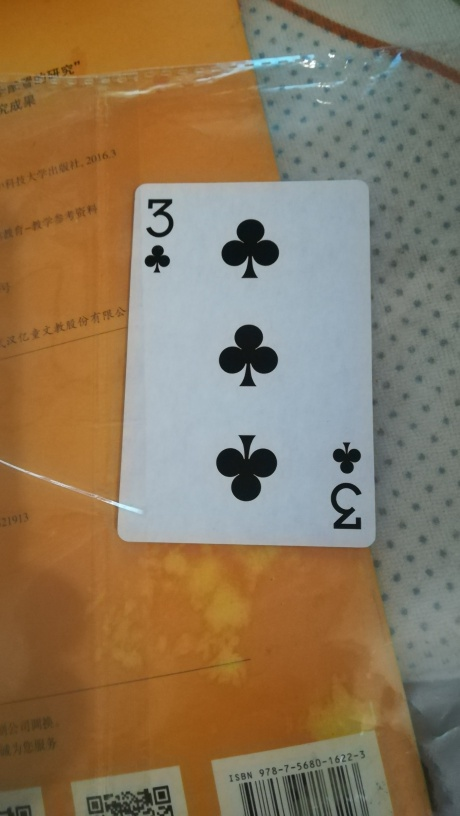mh 3: (108, 178, 380, 549)
